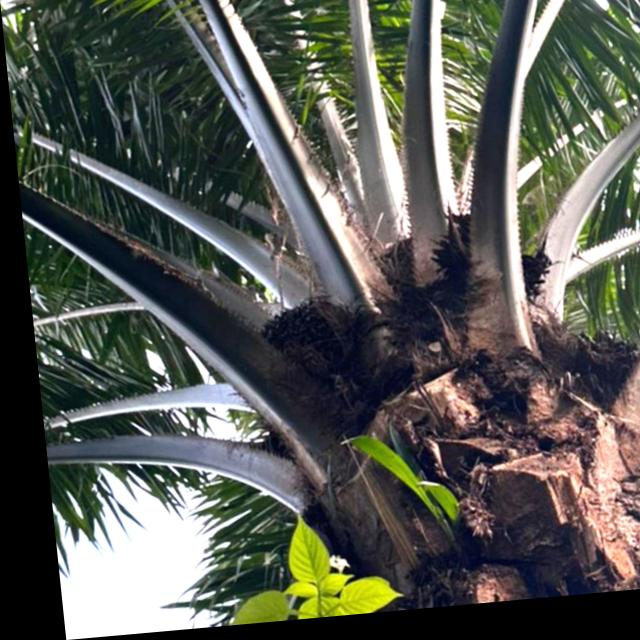unripe: (247, 296, 355, 397)
